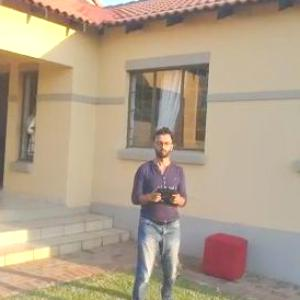follow: (124, 121, 192, 299)
